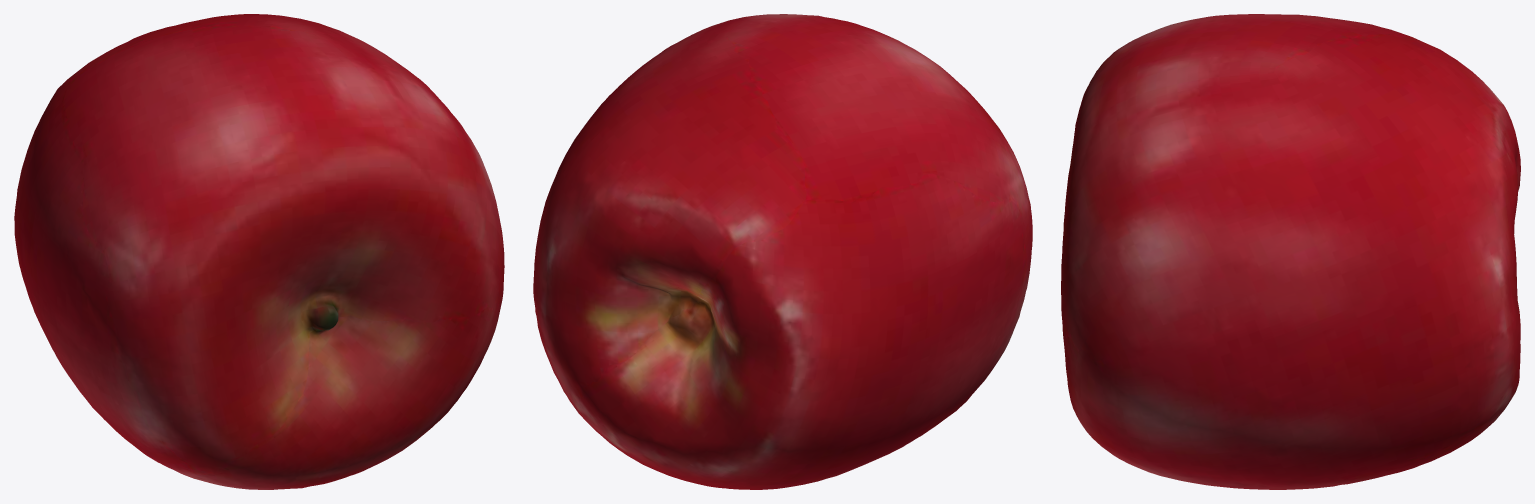
The model's file is ddg-ycb_013_apple.glb.
3 views of the same model, side by side, from view 1: azimuth 30°, elevation 25°; view 2: azimuth 150°, elevation 25°; view 3: azimuth 270°, elevation 25° (orthographic). The views are drawn at different scales.
Visible parts, largest first — view 1: textured(Clone); view 2: textured(Clone); view 3: textured(Clone).
Part boxes in pixels (x1=…): textured(Clone): x1=14, y1=14, x2=504, y2=489; textured(Clone): x1=533, y1=14, x2=1032, y2=489; textured(Clone): x1=1061, y1=14, x2=1520, y2=489.
Bounding box in the file's own units: 1.71 × 1.7 × 1.63.
1 material, 1 textured.
